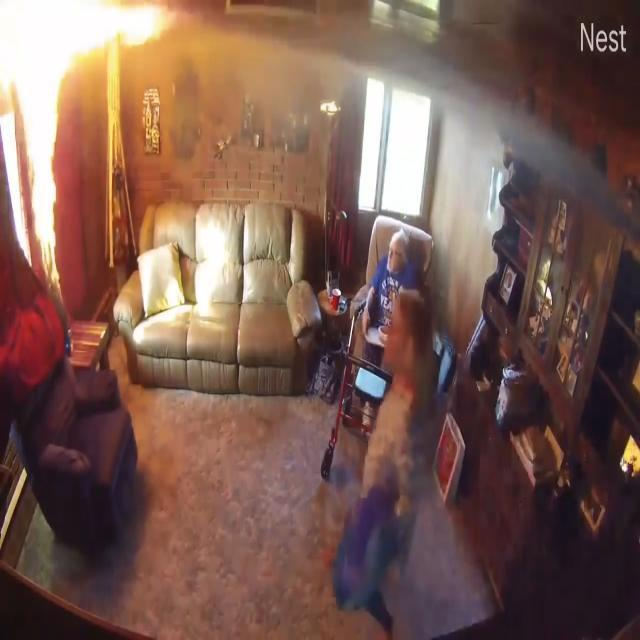Fire: (3, 0, 151, 203)
